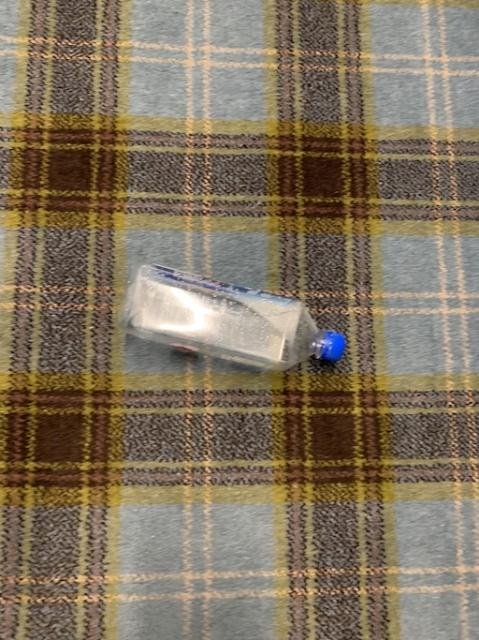plastic: (121, 263, 344, 369)
